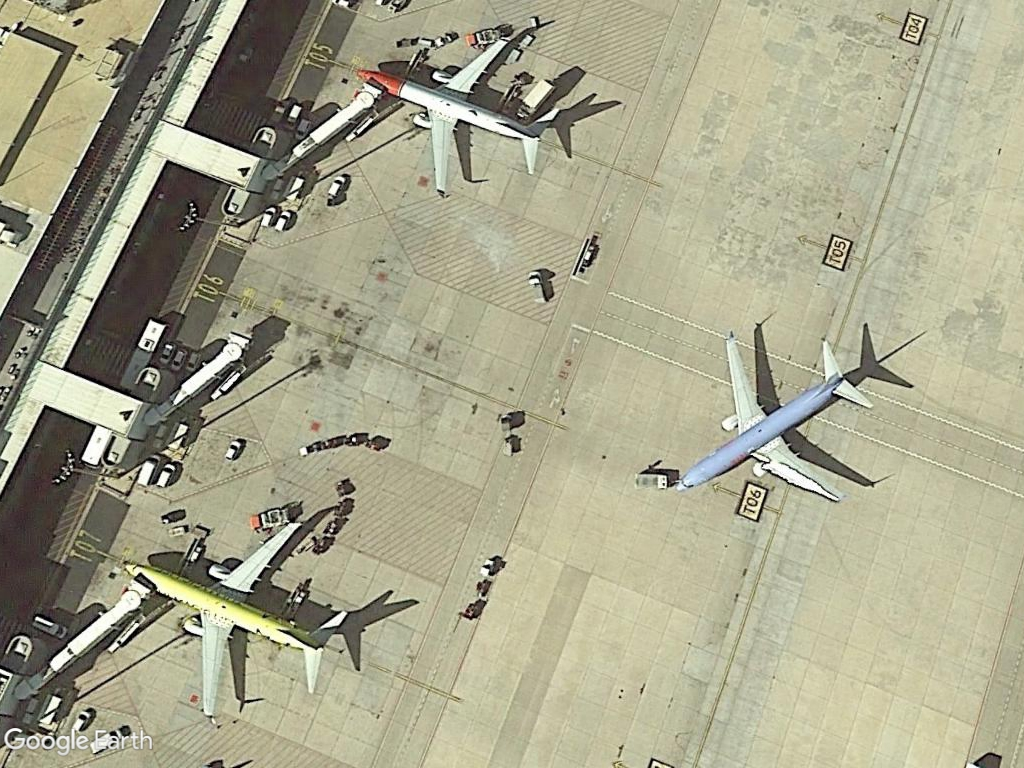airliner: (116, 512, 362, 728), (664, 328, 894, 515), (354, 16, 564, 200)
truck: (516, 77, 555, 121), (523, 267, 555, 309)
